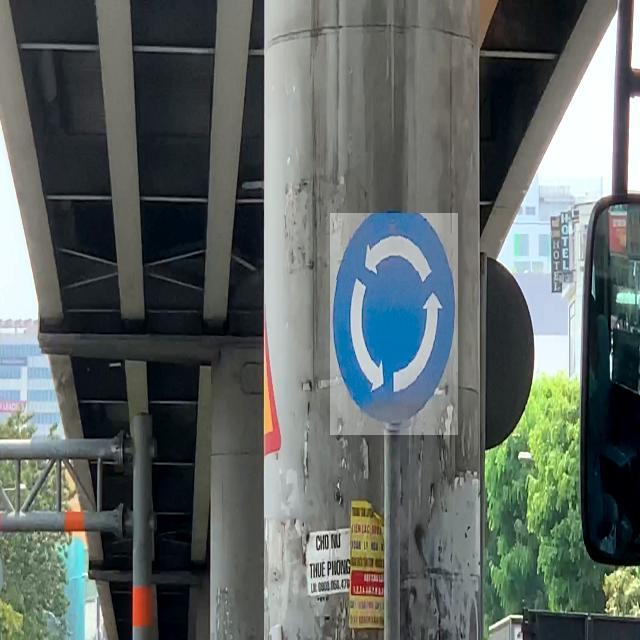R-303: (331, 213, 459, 435)
